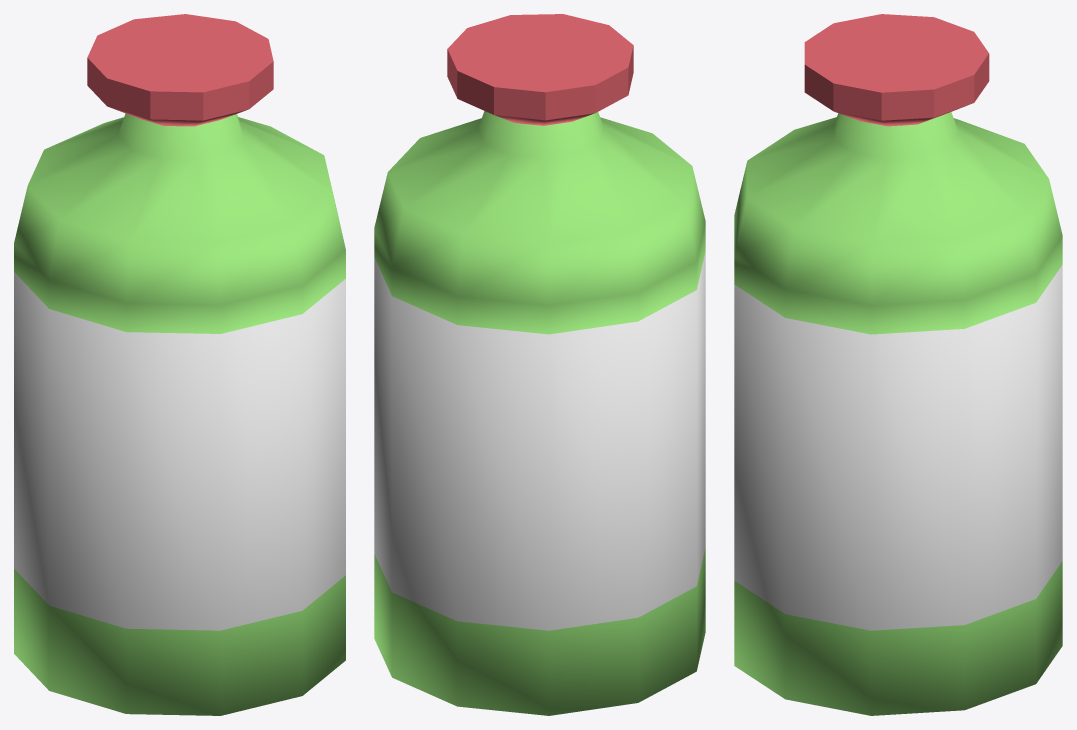
File: poison.fbx
3 renders of one model, left to right at view 1: azimuth 30°, elevation 25°; view 2: azimuth 150°, elevation 25°; view 3: azimuth 270°, elevation 25°, orthographic.
Visible parts, largest first — view 1: Cylinder.008; view 2: Cylinder.008; view 3: Cylinder.008.
Part boxes in pixels (x1=…): Cylinder.008: x1=14, y1=14, x2=345, y2=715; Cylinder.008: x1=374, y1=14, x2=705, y2=715; Cylinder.008: x1=734, y1=14, x2=1062, y2=715.
Bounding box in the file's own units: 2.21 × 4.34 × 2.18.
